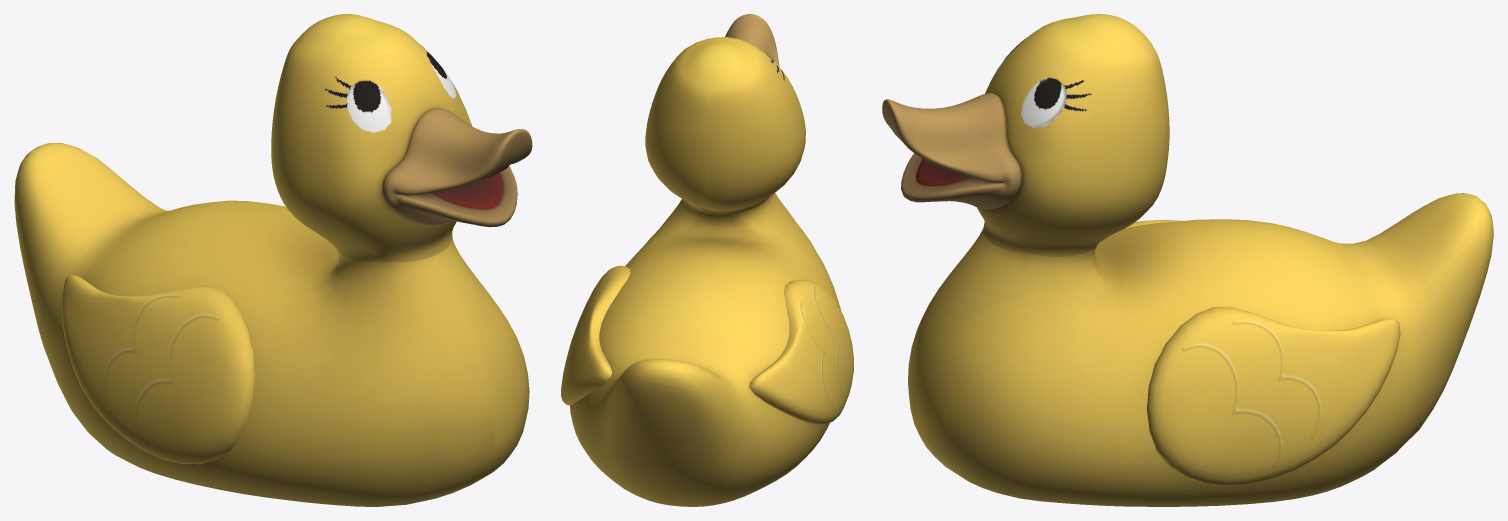
Rendered from duck2.glb.
3 renders of one model, left to right at view 1: azimuth 30°, elevation 25°; view 2: azimuth 150°, elevation 25°; view 3: azimuth 270°, elevation 25°, orthographic. The views are drawn at different scales.
Visible parts, largest first — view 1: 10602_Rubber_Duck_v1_L3; view 2: 10602_Rubber_Duck_v1_L3; view 3: 10602_Rubber_Duck_v1_L3.
Boxes of the visible parts, box(x1,y1,x2,y2) form: 10602_Rubber_Duck_v1_L3: box(14, 14, 532, 506); 10602_Rubber_Duck_v1_L3: box(561, 14, 853, 506); 10602_Rubber_Duck_v1_L3: box(882, 14, 1493, 506).
Size of the model in its own units: 5.48 by 7.42 by 8.66.
1 material, 1 textured.
